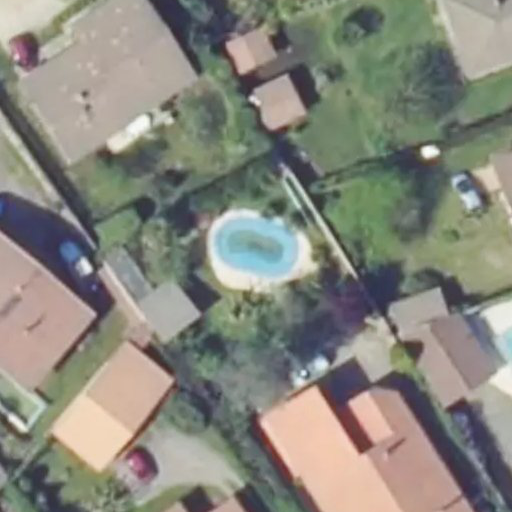pool: (212, 211, 301, 284)
